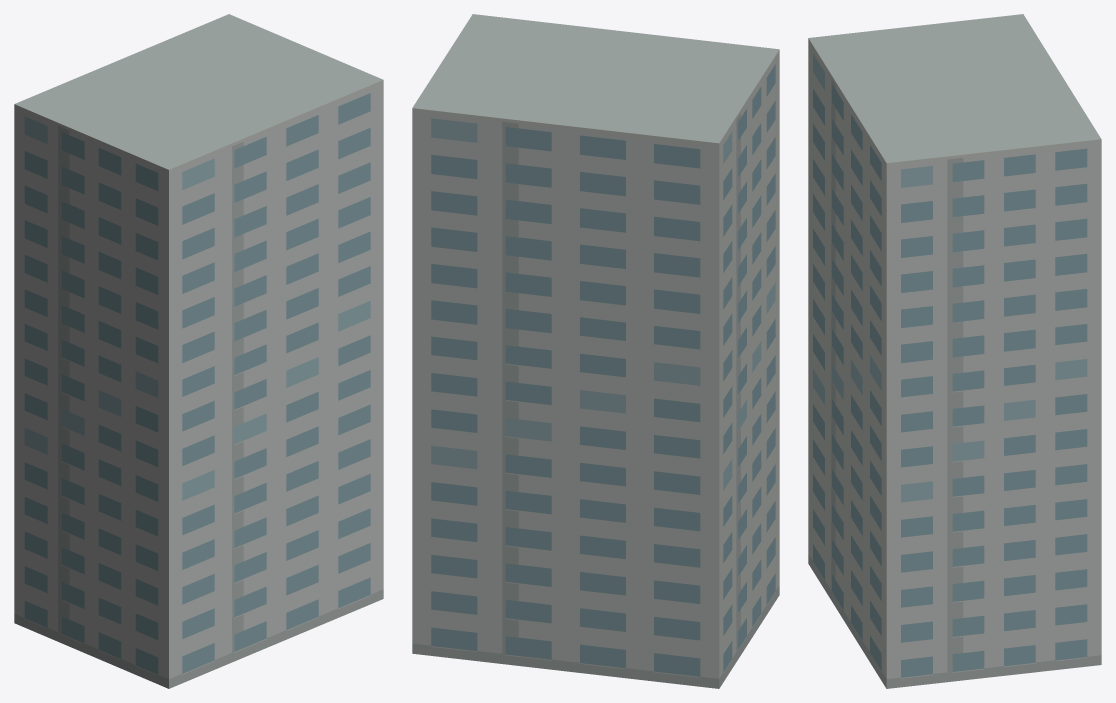
The model's file is residential-e79d5698-a2be-434a-a60d-dbe0ec8e8b79.glb.
The picture shows the model from 3 angles, left to right: view 1: azimuth 30°, elevation 25°; view 2: azimuth 150°, elevation 25°; view 3: azimuth 270°, elevation 25°; orthographic projection. The views are drawn at different scales.
Parts seen in each view (by area): view 1: residential-e79d5698-a2be-434a-a60d-dbe0ec8e8b79.tmp; view 2: residential-e79d5698-a2be-434a-a60d-dbe0ec8e8b79.tmp; view 3: residential-e79d5698-a2be-434a-a60d-dbe0ec8e8b79.tmp.
Part boxes in pixels (x1,y1,x2,y2): residential-e79d5698-a2be-434a-a60d-dbe0ec8e8b79.tmp: [14, 14, 383, 688]; residential-e79d5698-a2be-434a-a60d-dbe0ec8e8b79.tmp: [412, 14, 779, 688]; residential-e79d5698-a2be-434a-a60d-dbe0ec8e8b79.tmp: [808, 14, 1101, 688].
Size of the model in its own units: 25.58 by 42 by 21.24.
